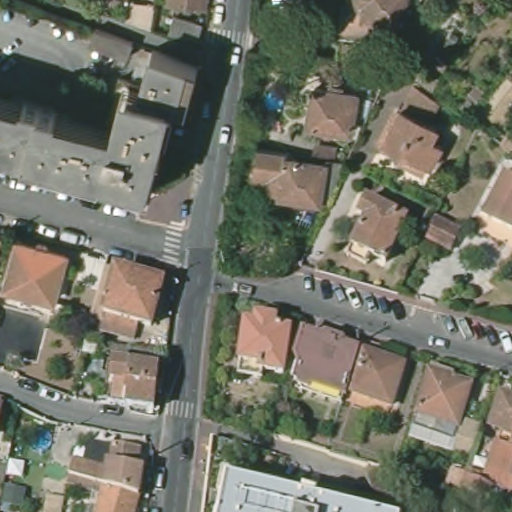pool: (26, 423, 54, 453), (261, 86, 288, 115)
